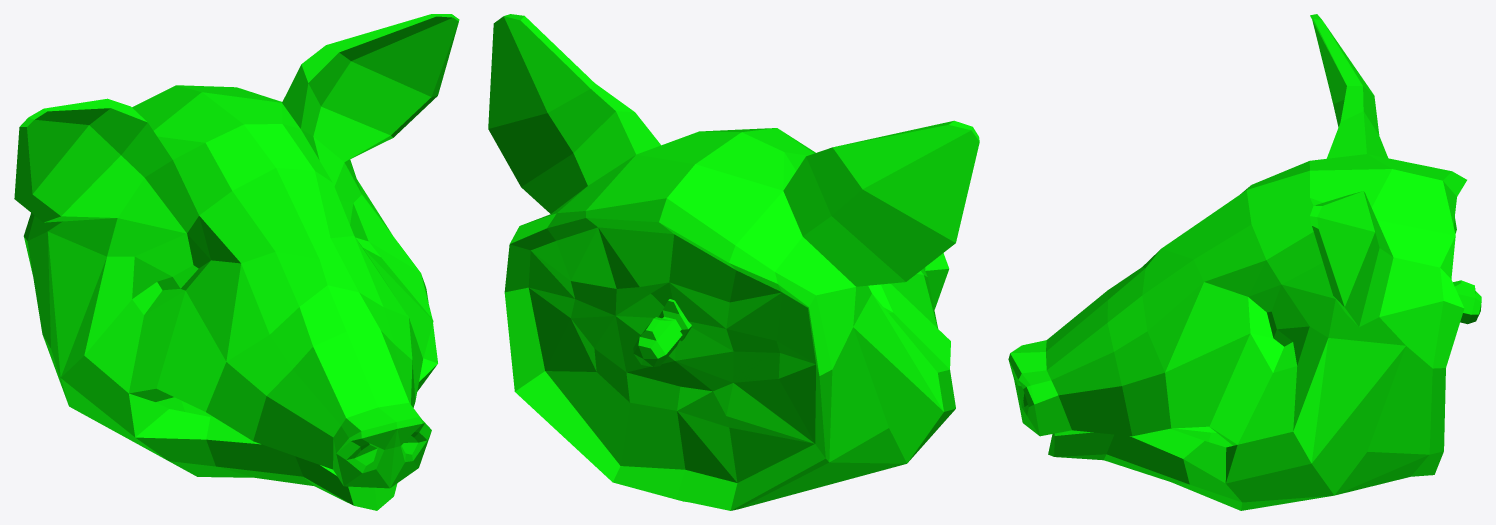
The model's file is SM_Pig_Head.fbx.
The picture shows the model from 3 angles, left to right: view 1: azimuth 30°, elevation 25°; view 2: azimuth 150°, elevation 25°; view 3: azimuth 270°, elevation 25°; orthographic projection. The views are drawn at different scales.
Visible parts, largest first — view 1: pig-head; view 2: pig-head; view 3: pig-head.
Part boxes in pixels (<box>): pig-head: <box>14,14,459,510</box>; pig-head: <box>488,14,979,510</box>; pig-head: <box>1008,14,1481,510</box>.
Bounding box in the file's own units: 0.4817 × 0.388 × 0.4564.
